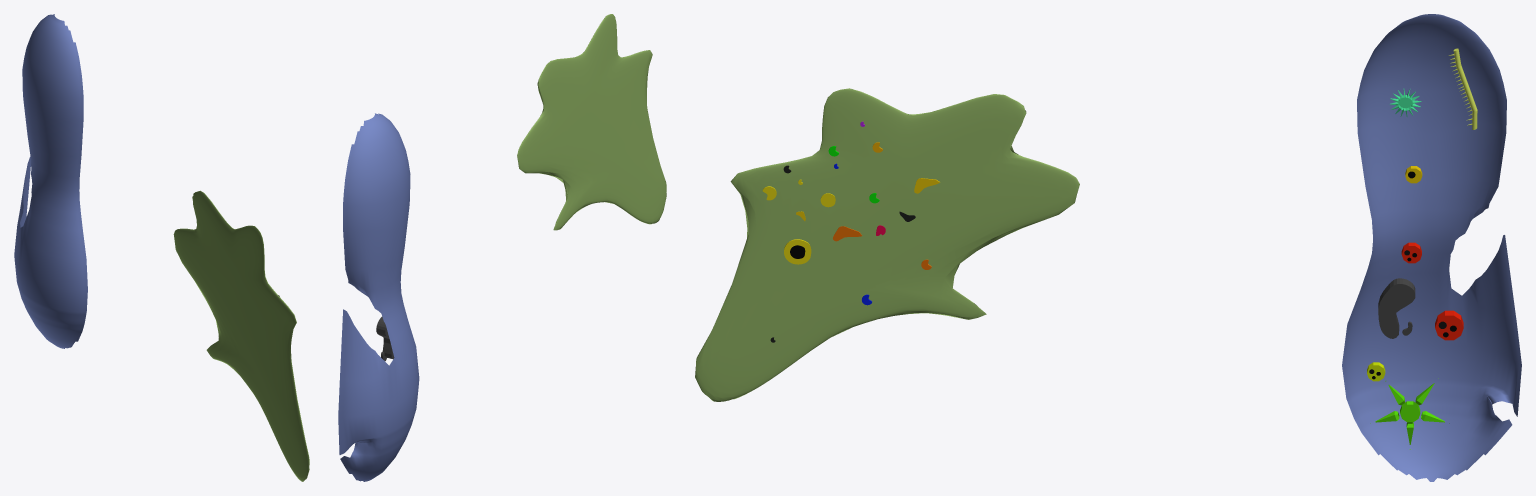
Rendered from proto ..gltf.
3 views of the same model, side by side, from view 1: azimuth 30°, elevation 25°; view 2: azimuth 150°, elevation 25°; view 3: azimuth 270°, elevation 25° (orthographic). The views are drawn at different scales.
Parts seen in each view (by area): view 1: Sphere.001; view 2: Sphere.001; view 3: Sphere.001.
Boxes of the visible parts, x1,y1,x2,y2 form: Sphere.001: [14, 14, 309, 481]; Sphere.001: [338, 14, 666, 481]; Sphere.001: [695, 14, 1521, 481].
Bounding box in the file's own units: 0.2659 × 2.37 × 3.81.
